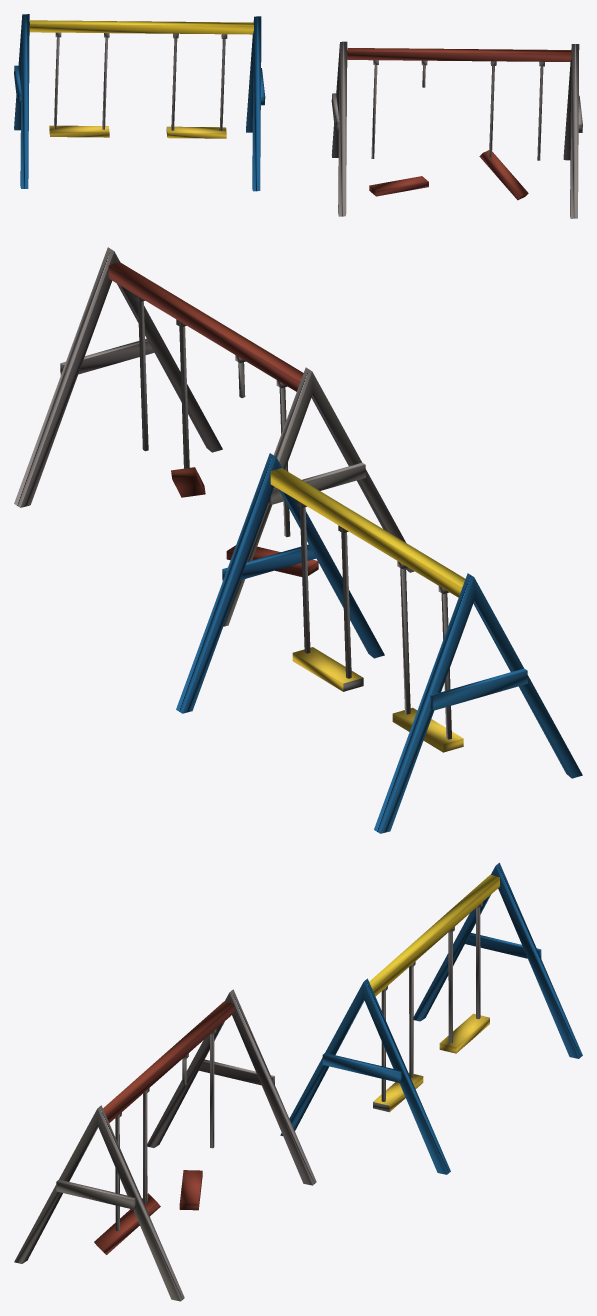
Rendered from apoc_prop_79.glb.
The picture shows the model from 3 angles, top to bottom: view 1: azimuth 30°, elevation 25°; view 2: azimuth 150°, elevation 25°; view 3: azimuth 270°, elevation 25°; orthographic projection. The views are drawn at different scales.
Visible parts, largest first — view 1: prop_081; view 2: prop_081; view 3: prop_081.
Boxes of the visible parts, bbox=[...] form: prop_081: bbox=[14, 14, 582, 218]; prop_081: bbox=[14, 247, 582, 833]; prop_081: bbox=[14, 862, 582, 1301].
Bounding box in the file's own units: 1.59 × 0.504 × 1.4.
1 material, 1 textured.
